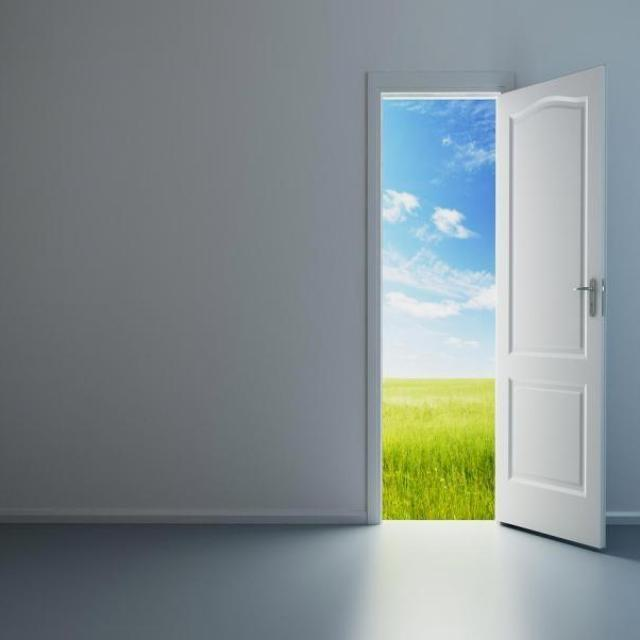door: (493, 63, 608, 550)
